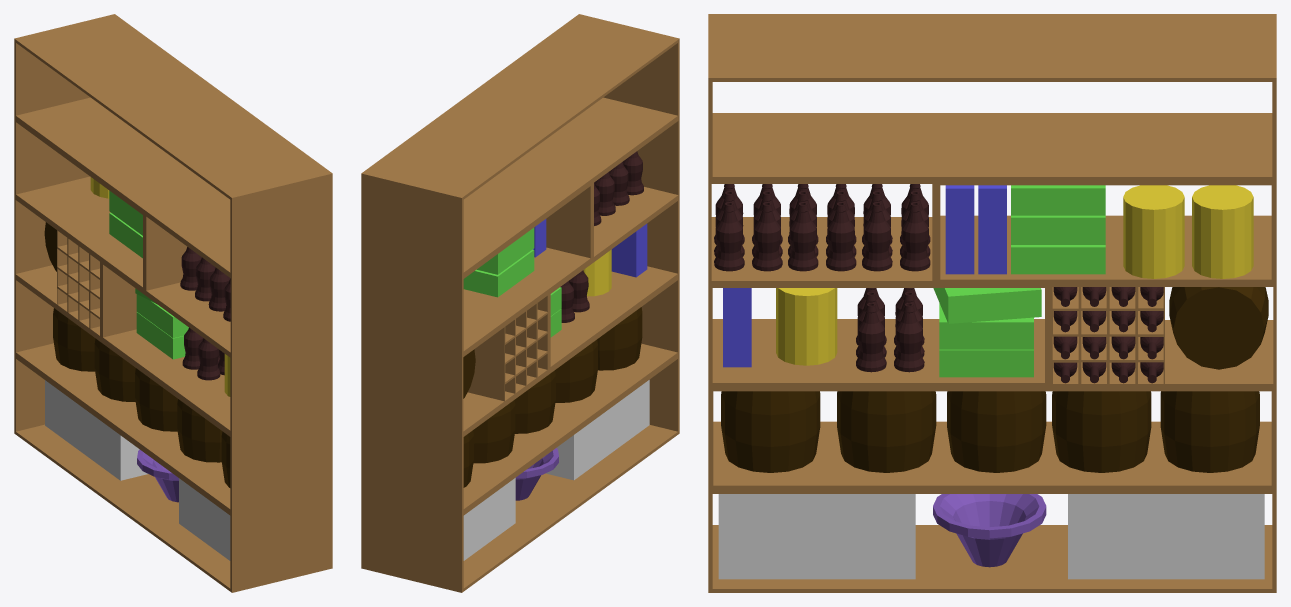
File: Pantry.fbx
3 renders of one model, left to right at view 1: azimuth 30°, elevation 25°; view 2: azimuth 150°, elevation 25°; view 3: azimuth 270°, elevation 25°, orthographic. The views are drawn at different scales.
Visible parts, largest first — view 1: Shelf, Cube.001, Grid, Cube, Cylinder.020, Cylinder.019, Cylinder.017, Cylinder.018, Box.001, Box.002, Circle, Box.003 (+8 smaller); view 2: Shelf, Grid, Cube, Cube.001, Cylinder.021, Cylinder.020, Cylinder.018, Cylinder.019, Box.003, Cereal, Box.004, Circle (+8 smaller); view 3: Shelf, Cube, Cube.001, Cylinder.017, Cylinder.018, Cylinder.019, Cylinder.020, Cylinder.021, Cylinder.016, Circle, Coffeetin.002, Coffeetin.001 (+19 smaller).
Part boxes in pixels (x1,y1,x2,y2): Shelf: (14, 14, 332, 592); Cube.001: (45, 380, 147, 480); Grid: (57, 230, 100, 333); Cube: (179, 478, 230, 560); Cylinder.020: (177, 399, 222, 462); Cylinder.019: (135, 368, 177, 431); Cylinder.017: (53, 308, 95, 371); Cylinder.018: (94, 338, 135, 401); Box.001: (136, 312, 185, 359); Box.002: (136, 294, 188, 338); Circle: (137, 449, 178, 502); Box.003: (109, 212, 142, 258); Shelf: (361, 14, 679, 592); Grid: (468, 293, 548, 402); Cube: (546, 380, 649, 480); Cube.001: (463, 478, 515, 560); Cylinder.021: (597, 307, 642, 370); Cylinder.020: (555, 339, 597, 402); Cylinder.018: (473, 400, 515, 463); Cylinder.019: (514, 370, 555, 433); Box.003: (463, 249, 534, 297); Cereal: (611, 223, 647, 277); Box.004: (477, 227, 534, 274); Circle: (515, 448, 558, 500); Shelf: (708, 14, 1276, 592); Cube: (718, 494, 915, 579); Cube.001: (1068, 494, 1264, 579); Cylinder.017: (1160, 391, 1259, 472); Cylinder.018: (1052, 391, 1151, 472); Cylinder.019: (947, 391, 1046, 472); Cylinder.020: (837, 391, 936, 472); Cylinder.021: (721, 391, 820, 472); Cylinder.016: (1169, 287, 1268, 369); Circle: (933, 494, 1046, 567); Coffeetin.002: (1192, 185, 1253, 278); Coffeetin.001: (1123, 185, 1184, 278).
Size of the model in its own units: 43.68 by 150 by 150.
